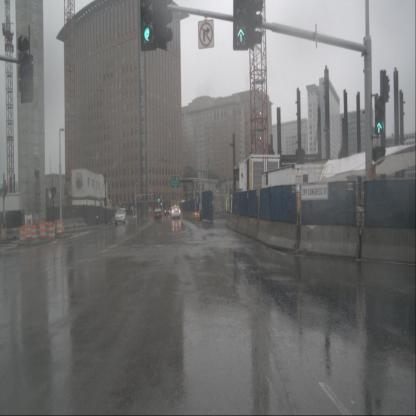movable_object-barrier: (297, 223, 364, 260), (360, 224, 416, 266), (266, 220, 303, 252), (256, 219, 272, 246), (235, 215, 252, 237), (246, 217, 262, 240), (1, 227, 22, 241), (228, 213, 242, 233), (62, 217, 76, 229), (73, 217, 87, 228), (225, 212, 233, 228)
movable_object-trafficcone: (47, 222, 56, 240), (39, 222, 47, 241), (30, 224, 38, 241), (25, 223, 32, 242), (44, 222, 51, 240), (19, 224, 26, 242), (56, 220, 63, 236), (37, 224, 43, 240), (0, 223, 4, 240), (62, 224, 65, 233)
vehicle-car: (115, 209, 127, 226), (170, 206, 181, 220), (154, 206, 162, 219), (164, 207, 171, 216)
